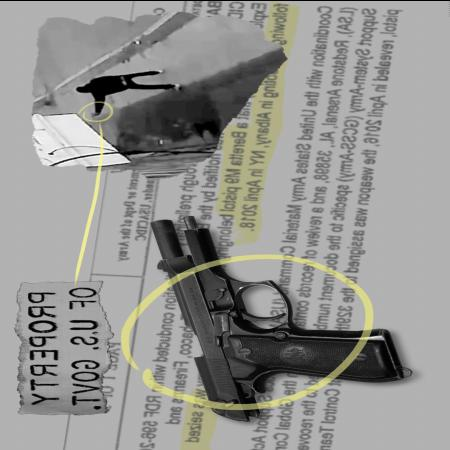Pistol: (149, 204, 393, 414)
